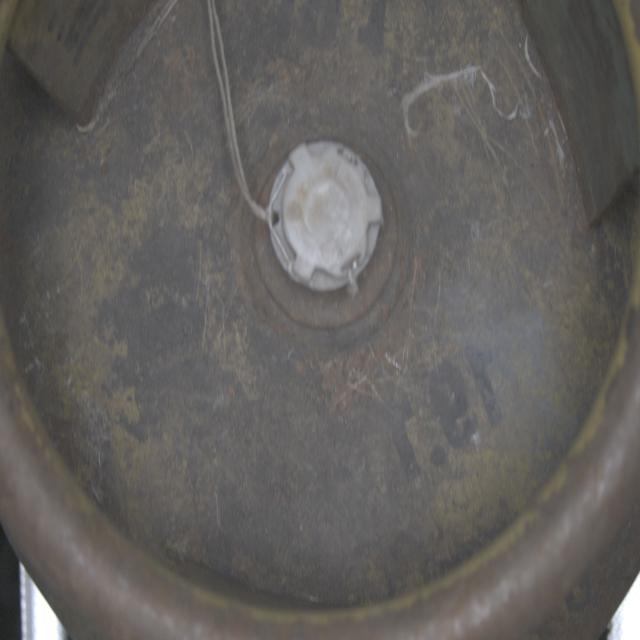Cap: (268, 137, 385, 296)
